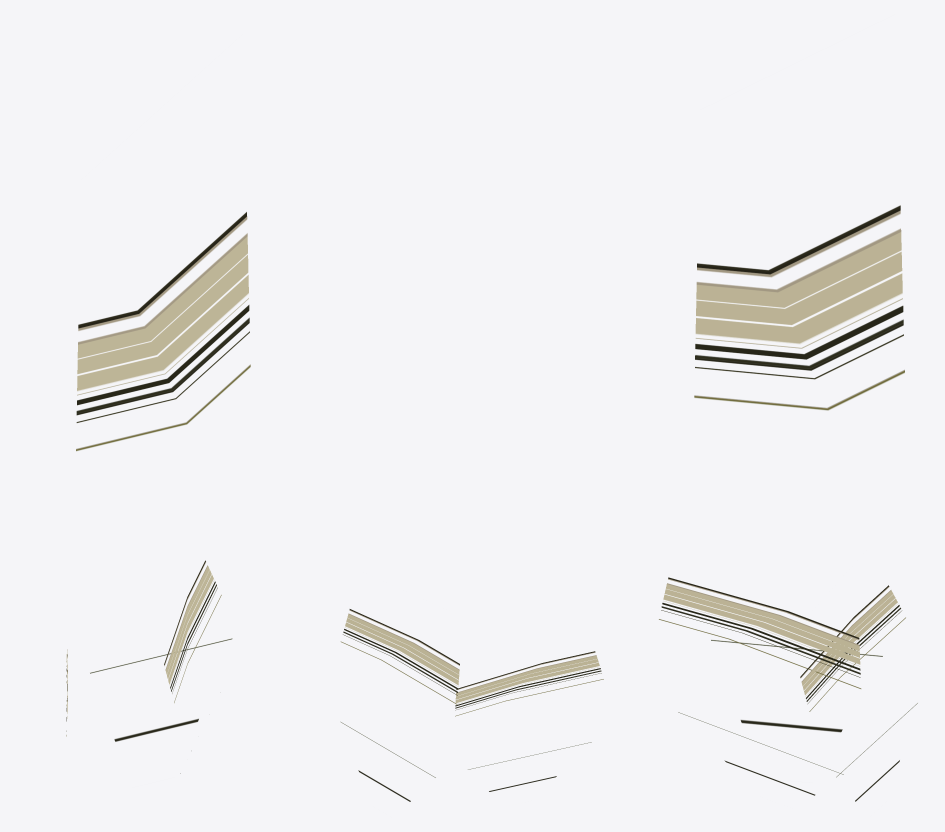
File: SM_FOL_Grass_Tall_01_A.glb
3 views of the same model, side by side, from view 1: azimuth 30°, elevation 25°; view 2: azimuth 150°, elevation 25°; view 3: azimuth 270°, elevation 25° (orthographic). The views are drawn at different scales.
Visible parts, largest first — view 1: SM_FOL_Grass_Tall_01_A; view 2: SM_FOL_Grass_Tall_01_A; view 3: SM_FOL_Grass_Tall_01_A.
Boxes of the visible parts, x1,y1,x2,y2 form: SM_FOL_Grass_Tall_01_A: (66,212,250,773); SM_FOL_Grass_Tall_01_A: (340,609,603,801); SM_FOL_Grass_Tall_01_A: (659,205,917,801).
Bounding box in the file's own units: 0.4449 × 1.24 × 0.4041.
Materials: 1 (1 with a texture image).
